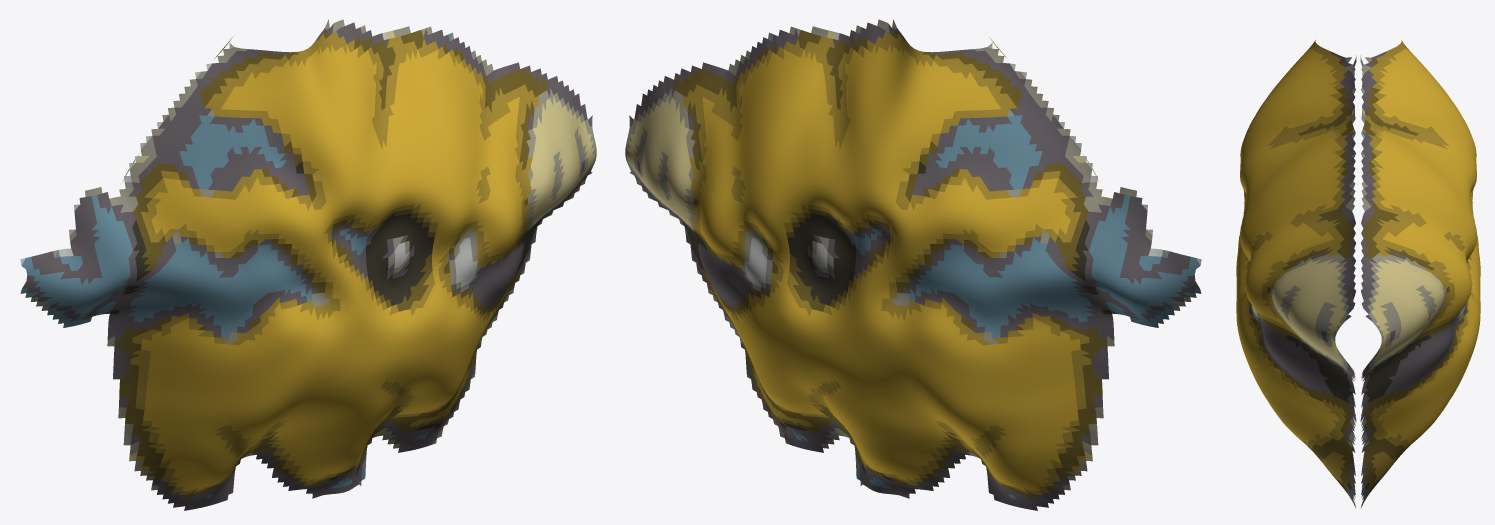
The model's file is ureunggul.glb.
3 views of the same model, side by side, from view 1: azimuth 30°, elevation 25°; view 2: azimuth 150°, elevation 25°; view 3: azimuth 270°, elevation 25° (orthographic). The views are drawn at different scales.
Parts seen in each view (by area): view 1: ureunggul; view 2: ureunggul; view 3: ureunggul.
Part boxes in pixels (<box>): ureunggul: <box>20,19,596,510</box>; ureunggul: <box>625,19,1201,510</box>; ureunggul: <box>1236,40,1480,507</box>.
Size of the model in its own units: 236 by 188 by 97.59.
